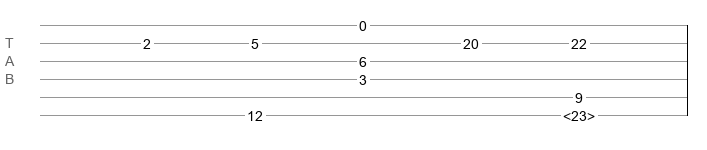0: (359, 18, 367, 28)
12: (247, 108, 263, 118)
2: (143, 36, 151, 46)
20: (463, 36, 479, 46)
22: (571, 36, 587, 46)
3: (359, 72, 367, 82)
5: (251, 36, 259, 46)
6: (359, 54, 367, 64)
9: (575, 90, 583, 100)
harmonic: (563, 108, 595, 118)
